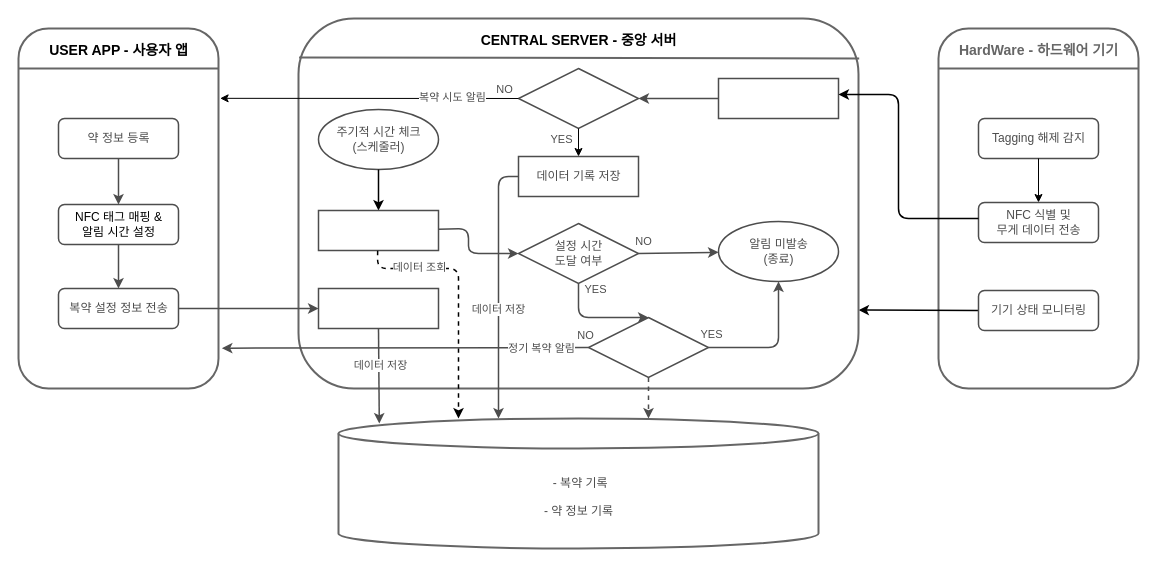
This 1157x566 diagram has some shape labels left out. The shapes that lost their labels are listed below. From the top down, each one's box as (x1, y1, x2, y2) in pixels, then its label:
(517, 67, 639, 129): 복약 여부 판별
(717, 77, 839, 119): 복약 데이터 수신
(317, 209, 439, 251): 현재 시간과 일치하는 복약 설정 조회
(317, 287, 439, 329): 복약 설정 정보 수신
(587, 316, 709, 378): 복약 상태 확인
